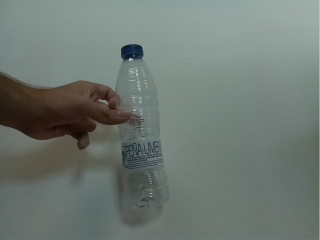botella plastico: (110, 41, 172, 212)
